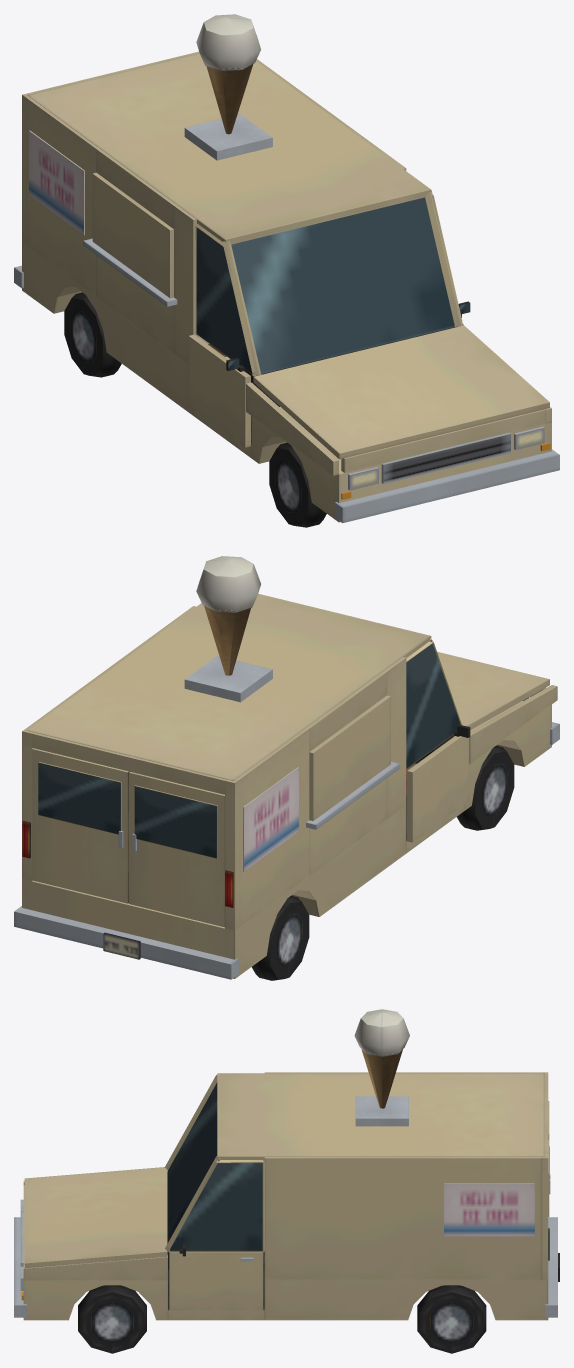
Rendered from ice_cream_van.obj.
The picture shows the model from 3 angles, top to bottom: view 1: azimuth 30°, elevation 25°; view 2: azimuth 150°, elevation 25°; view 3: azimuth 270°, elevation 25°; orthographic projection. The views are drawn at different scales.
Visible parts, largest first — view 1: ice_cream_van, ice_cream_van_hood, ice_cream_van_door_right, ice_cream_van_hatch, ice_cream_van_wheel_front_right, ice_cream_van_wheel_rear_right; view 2: ice_cream_van, ice_cream_van_door_back_left, ice_cream_van_door_back_right, ice_cream_van_door_right, ice_cream_van_hatch, ice_cream_van_hood, ice_cream_van_wheel_front_right, ice_cream_van_wheel_rear_right; view 3: ice_cream_van, ice_cream_van_hood, ice_cream_van_door_left, ice_cream_van_wheel_rear_left, ice_cream_van_wheel_front_left.
Boxes of the visible parts, <box> form: ice_cream_van: <box>14,14,559,523</box>; ice_cream_van_hood: <box>253,325,549,459</box>; ice_cream_van_door_right: <box>188,224,255,447</box>; ice_cream_van_hatch: <box>92,172,173,298</box>; ice_cream_van_wheel_front_right: <box>269,442,326,527</box>; ice_cream_van_wheel_rear_right: <box>64,292,121,377</box>; ice_cream_van: <box>14,556,559,979</box>; ice_cream_van_door_back_left: <box>32,748,129,903</box>; ice_cream_van_door_back_right: <box>129,772,224,927</box>; ice_cream_van_door_right: <box>406,640,470,842</box>; ice_cream_van_hatch: <box>309,695,390,820</box>; ice_cream_van_hood: <box>437,651,549,730</box>; ice_cream_van_wheel_front_right: <box>457,745,514,830</box>; ice_cream_van_wheel_rear_right: <box>252,896,309,980</box>; ice_cream_van: <box>14,1009,559,1320</box>; ice_cream_van_hood: <box>24,1167,167,1268</box>; ice_cream_van_door_left: <box>168,1160,264,1310</box>; ice_cream_van_wheel_rear_left: <box>417,1285,486,1353</box>; ice_cream_van_wheel_front_left: <box>78,1285,146,1353</box>.
Size of the model in its own units: 2.16 by 3.11 by 5.1.
1 material, 1 textured.
